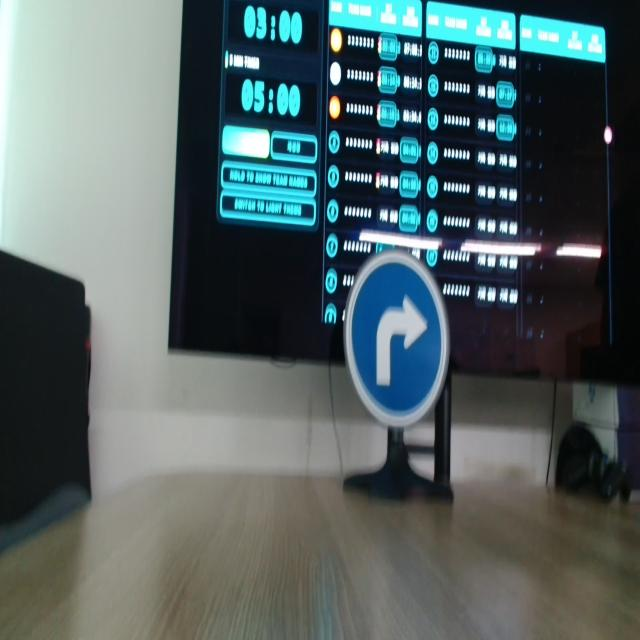right_dierection: (342, 246, 453, 434)
